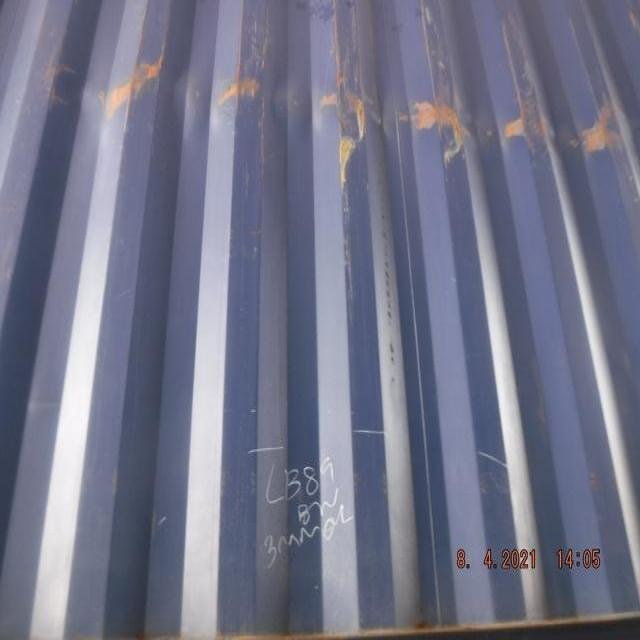Minor-Dent: (117, 49, 630, 164)
